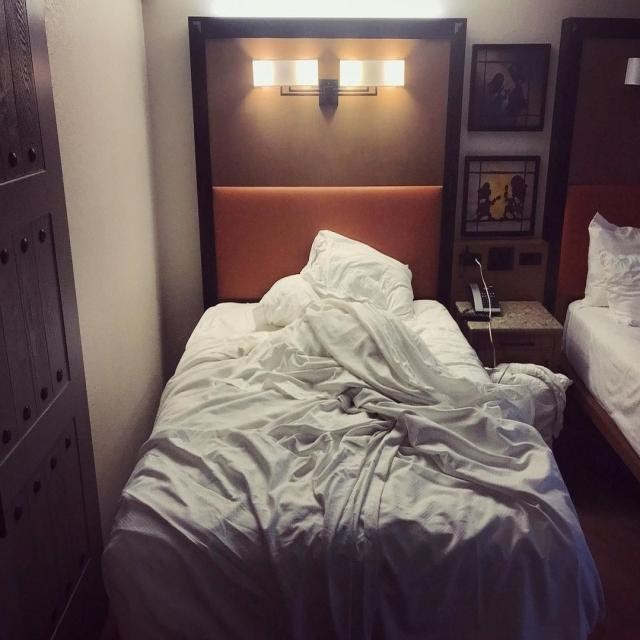bed: (168, 228, 476, 618)
